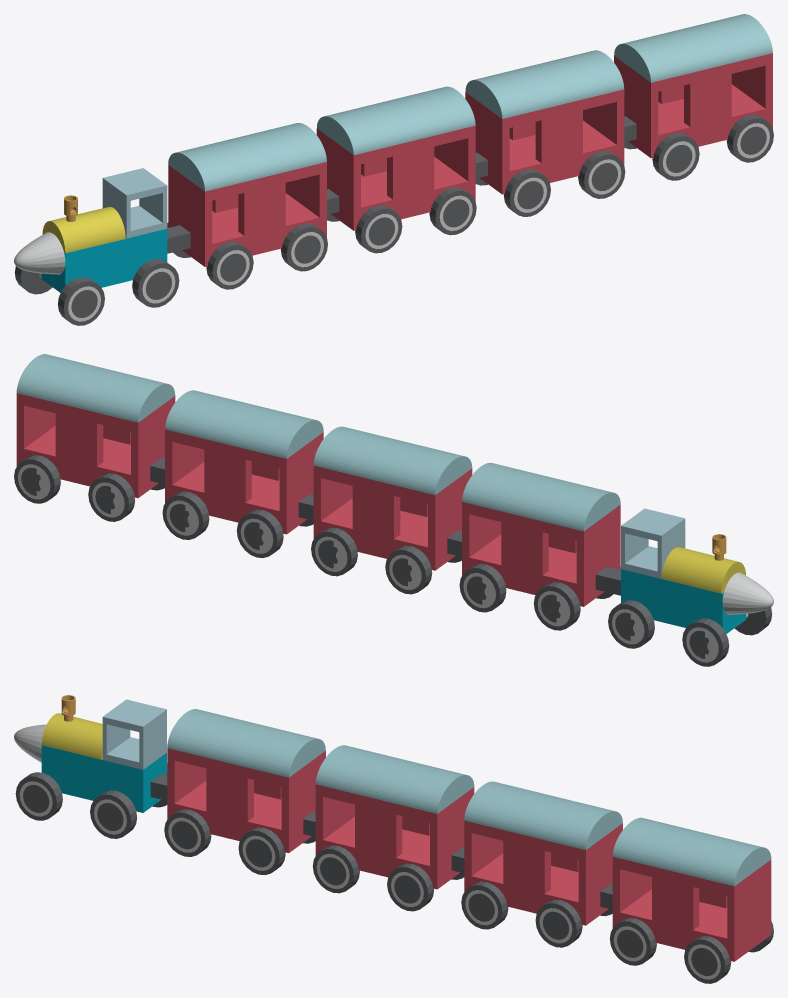
File: PRO - 150.glb
3 views of the same model, one above another, from view 1: azimuth 30°, elevation 25°; view 2: azimuth 150°, elevation 25°; view 3: azimuth 330°, elevation 25° (orthographic).
Visible parts, largest first — view 1: Mesh_Mesh_head_geo.001_lambert2SG.001; view 2: Mesh_Mesh_head_geo.001_lambert2SG.001; view 3: Mesh_Mesh_head_geo.001_lambert2SG.001.
Part boxes in pixels (<box>): Mesh_Mesh_head_geo.001_lambert2SG.001: <box>14,14,773,325</box>; Mesh_Mesh_head_geo.001_lambert2SG.001: <box>14,354,773,666</box>; Mesh_Mesh_head_geo.001_lambert2SG.001: <box>14,695,773,983</box>.
Bounding box in the file's own units: 358 × 56 × 41.49.
